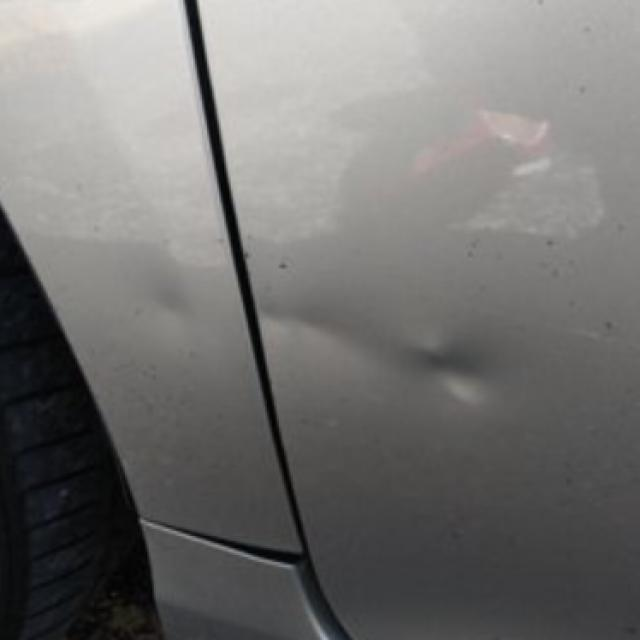dents: (103, 245, 223, 372), (403, 300, 508, 430), (253, 274, 354, 385)
